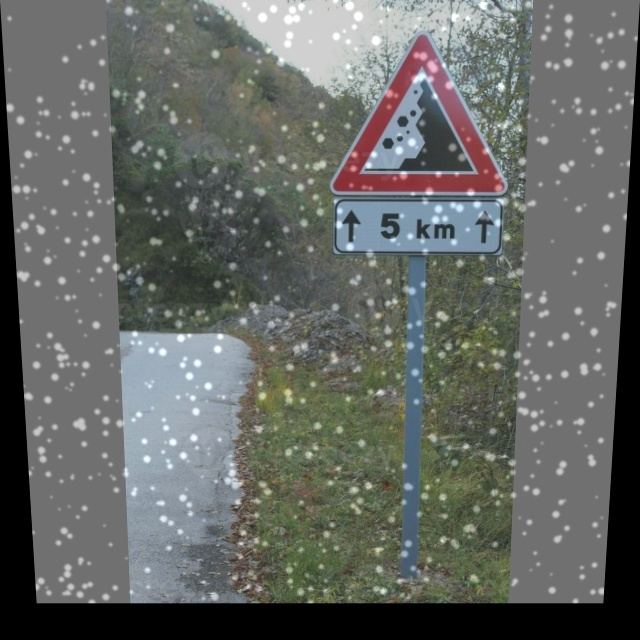Falling_Rocks: (330, 34, 511, 194)
